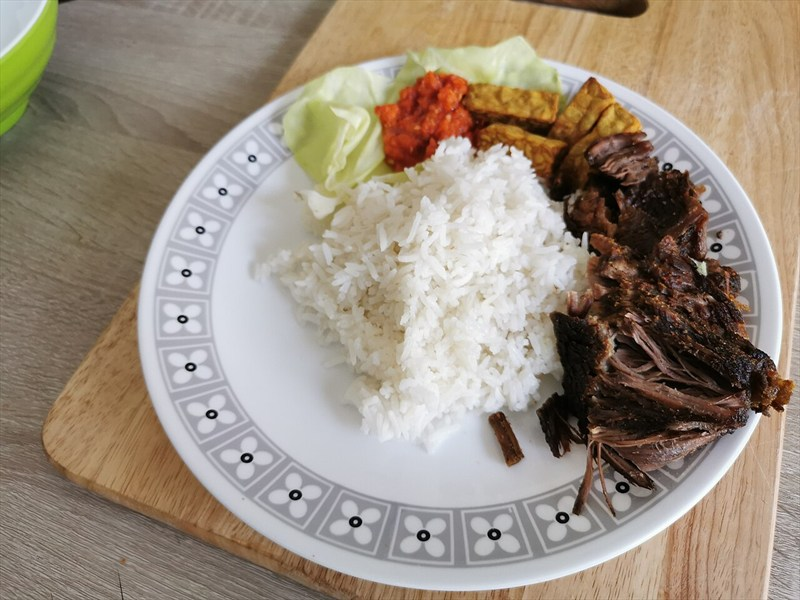Tempe Goreng: (152, 69, 768, 521)
